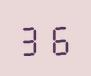six: (45, 20, 70, 55)
three: (19, 20, 44, 56)
